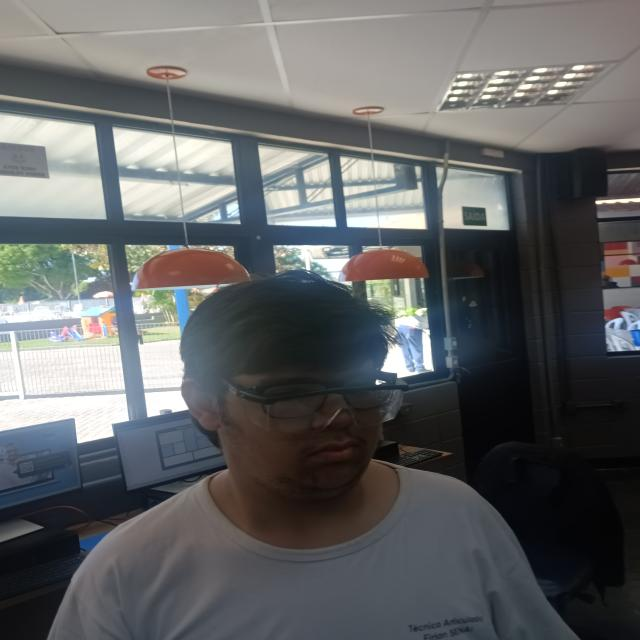oculos-epi: (219, 376, 409, 432)
